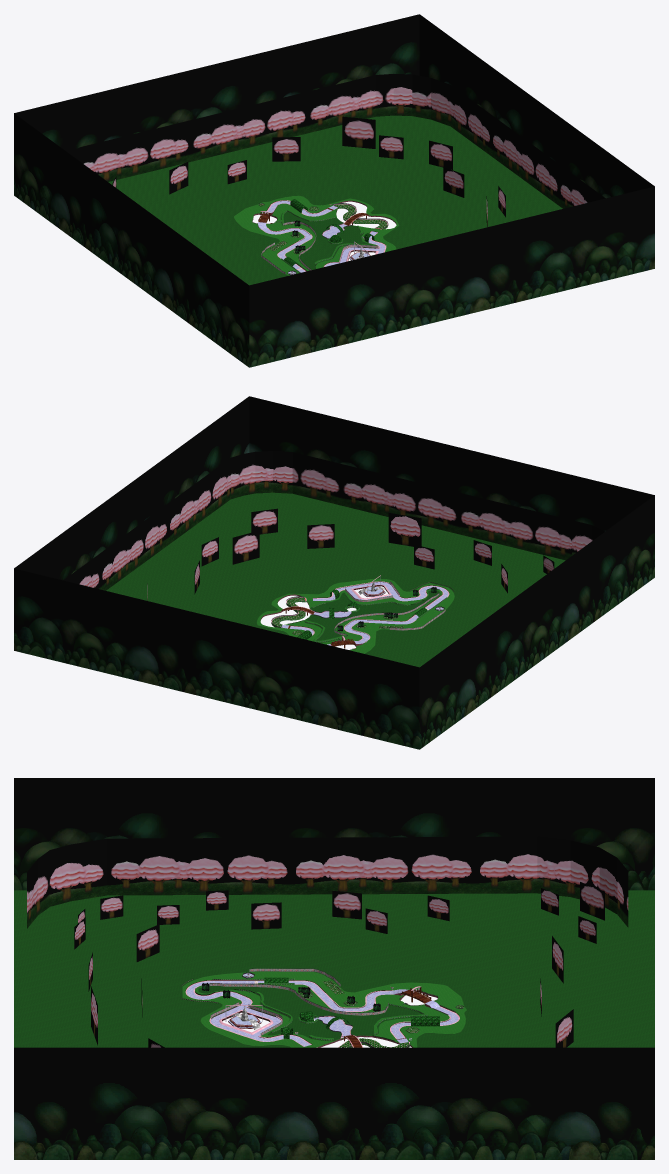
3 renders of one model, top to bottom at view 1: azimuth 30°, elevation 25°; view 2: azimuth 150°, elevation 25°; view 3: azimuth 270°, elevation 25°, orthographic. The views are drawn at different scales.
Visible parts, largest first — view 1: cbg5_Main-ng_mount_back.001, cbg5_Main-oobgrass.001, cbg5_Main-finish.001, cbg5_Main-grass.001, cbg5_Main-road2.001, cbg5_Main-mix1.001, cbg5_Main-fountainmateriall.001; view 2: cbg5_Main-ng_mount_back.001, cbg5_Main-oobgrass.001, cbg5_Main-finish.001, cbg5_Main-grass.001, cbg5_Main-road2.001, cbg5_Main-mix1.001, cbg5_Main-fountainmateriall.001, cbg5_Main-fencecbg.001; view 3: cbg5_Main-ng_mount_back.001, cbg5_Main-oobgrass.001, cbg5_Main-finish.001, cbg5_Main-grass.001, cbg5_Main-road2.001, cbg5_Main-mix1.001, cbg5_Main-fountainmateriall.001, cbg5_Main-fencecbg.001, cbg5_Main-ng_flower_y.001, cbg5_Main-flowersfence.001, cbg5_Main-bush1.001, cbg5_Main-ga_grass2.001 (+1 smaller).
Part boxes in pixels (x1,y1,x2,y2): cbg5_Main-ng_mount_back.001: (14, 14, 654, 367); cbg5_Main-oobgrass.001: (108, 115, 562, 285); cbg5_Main-finish.001: (112, 116, 505, 269); cbg5_Main-grass.001: (235, 196, 398, 275); cbg5_Main-road2.001: (258, 201, 385, 273); cbg5_Main-mix1.001: (233, 195, 399, 275); cbg5_Main-fountainmateriall.001: (261, 200, 387, 271); cbg5_Main-ng_mount_back.001: (14, 396, 654, 749); cbg5_Main-oobgrass.001: (106, 492, 565, 667); cbg5_Main-finish.001: (147, 508, 554, 609); cbg5_Main-grass.001: (258, 579, 453, 653); cbg5_Main-road2.001: (281, 582, 448, 645); cbg5_Main-mix1.001: (256, 578, 455, 653); cbg5_Main-fountainmateriall.001: (271, 581, 449, 642); cbg5_Main-fencecbg.001: (334, 581, 445, 635); cbg5_Main-ng_mount_back.001: (14, 778, 654, 1159); cbg5_Main-oobgrass.001: (14, 890, 654, 1047); cbg5_Main-finish.001: (74, 882, 604, 1047); cbg5_Main-grass.001: (184, 972, 464, 1047); cbg5_Main-road2.001: (186, 974, 458, 1046); cbg5_Main-mix1.001: (181, 971, 468, 1047); cbg5_Main-fountainmateriall.001: (185, 980, 459, 1047); cbg5_Main-fencecbg.001: (209, 968, 393, 1035); cbg5_Main-ng_flower_y.001: (264, 977, 439, 1038); cbg5_Main-flowersfence.001: (181, 972, 463, 1047); cbg5_Main-bush1.001: (256, 978, 427, 1047); cbg5_Main-ga_grass2.001: (298, 980, 463, 1047).
Size of the model in its own units: 251446 by 50543 by 252578.
24 materials, 23 textured.
